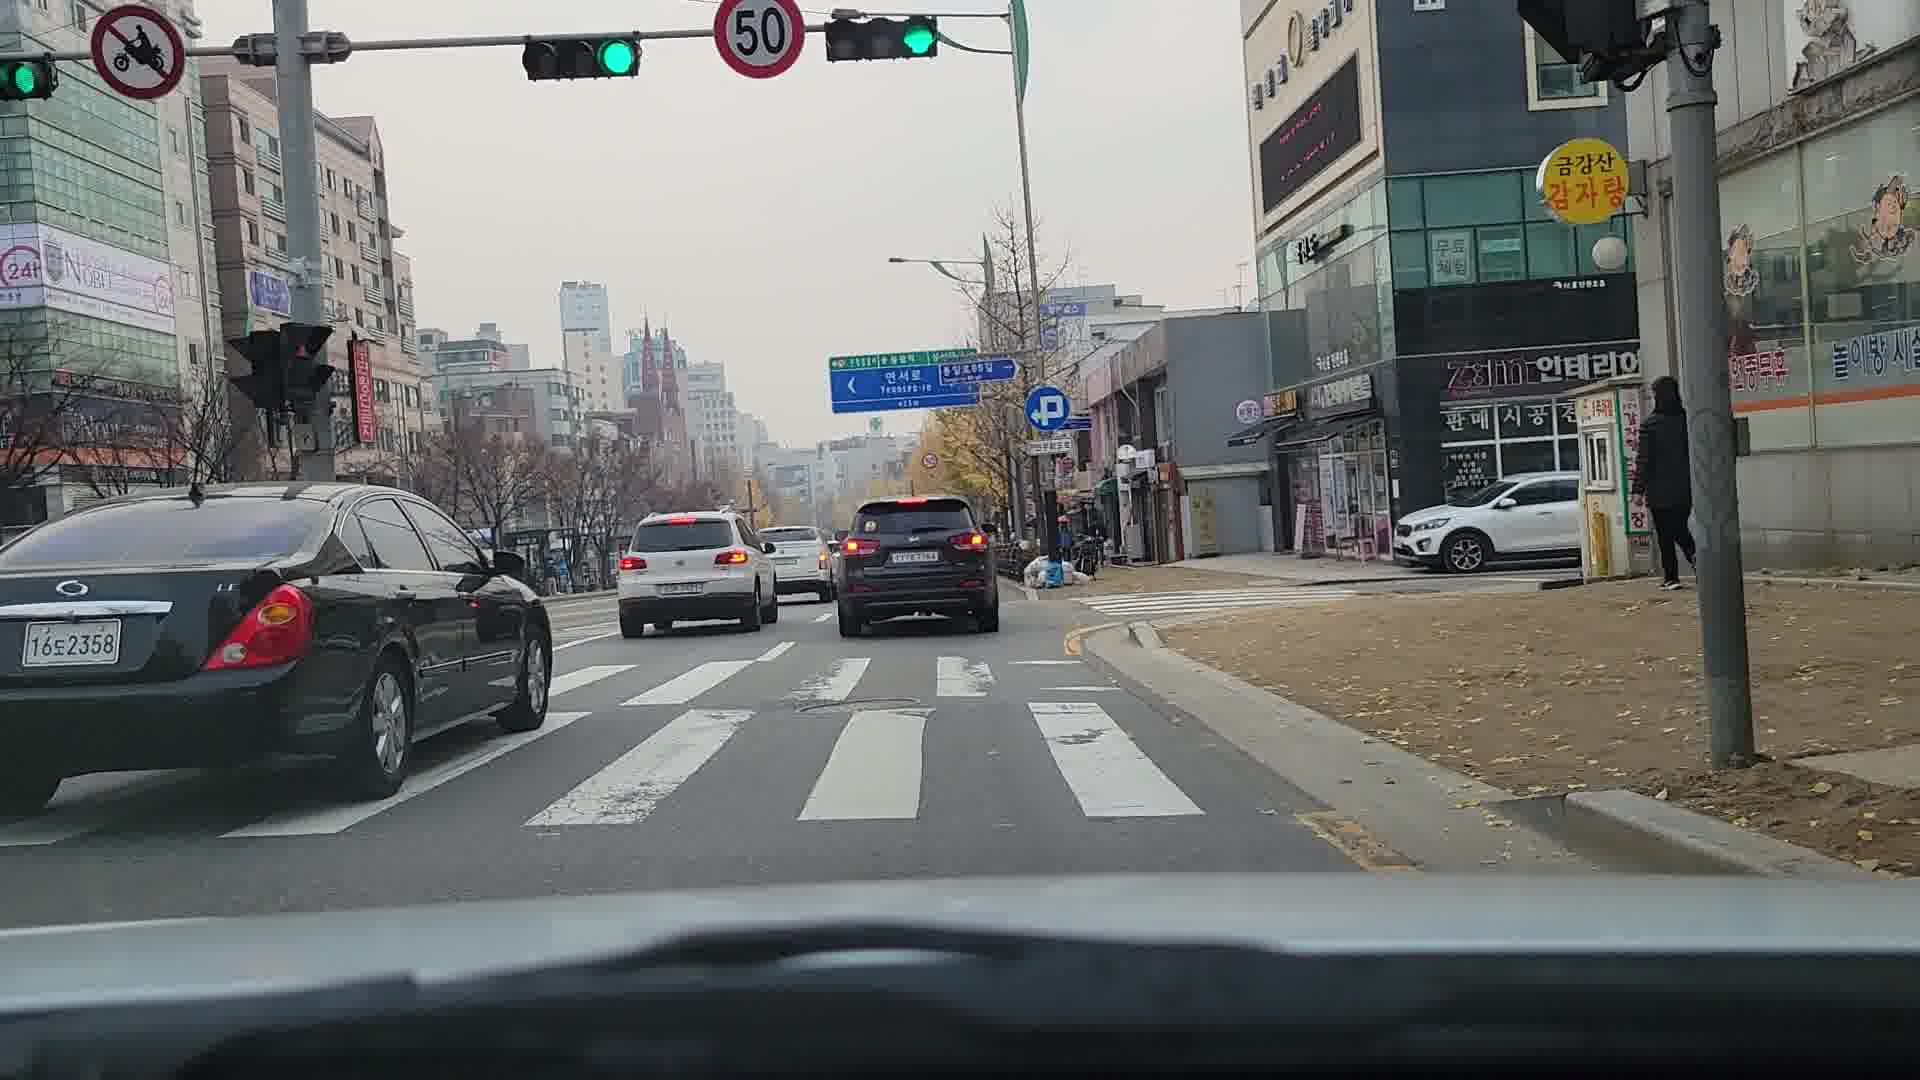car: (7, 484, 562, 827), (615, 509, 781, 637), (1389, 471, 1585, 574), (757, 525, 835, 603)
traffic light: (1513, 0, 1688, 88), (265, 320, 340, 411), (522, 34, 642, 80), (227, 328, 291, 410), (825, 16, 939, 61), (7, 55, 55, 99)
truck: (832, 496, 1004, 638)
